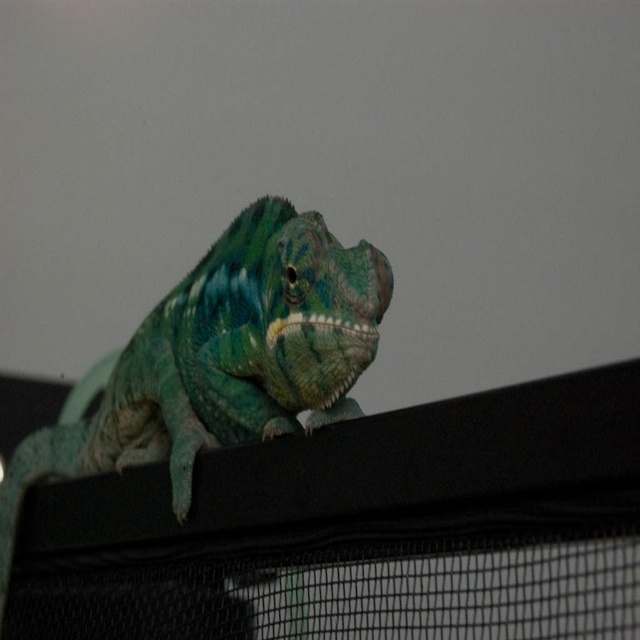Lizard: (18, 194, 395, 539)
